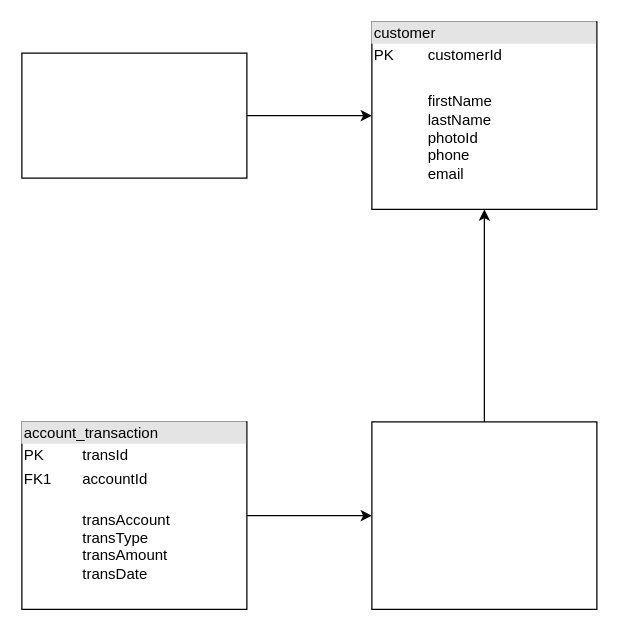
Some shapes in this 619 by 631 pixel diagram are drawn without their labels. Here are the shapes that lost their labels. From the top down, the centre of each, then its label:
At point (134, 115): "register PK registerId FK1 customerId username password".
At point (484, 515): "account PK accountId FK1 customerId accountNum accountBalance".
